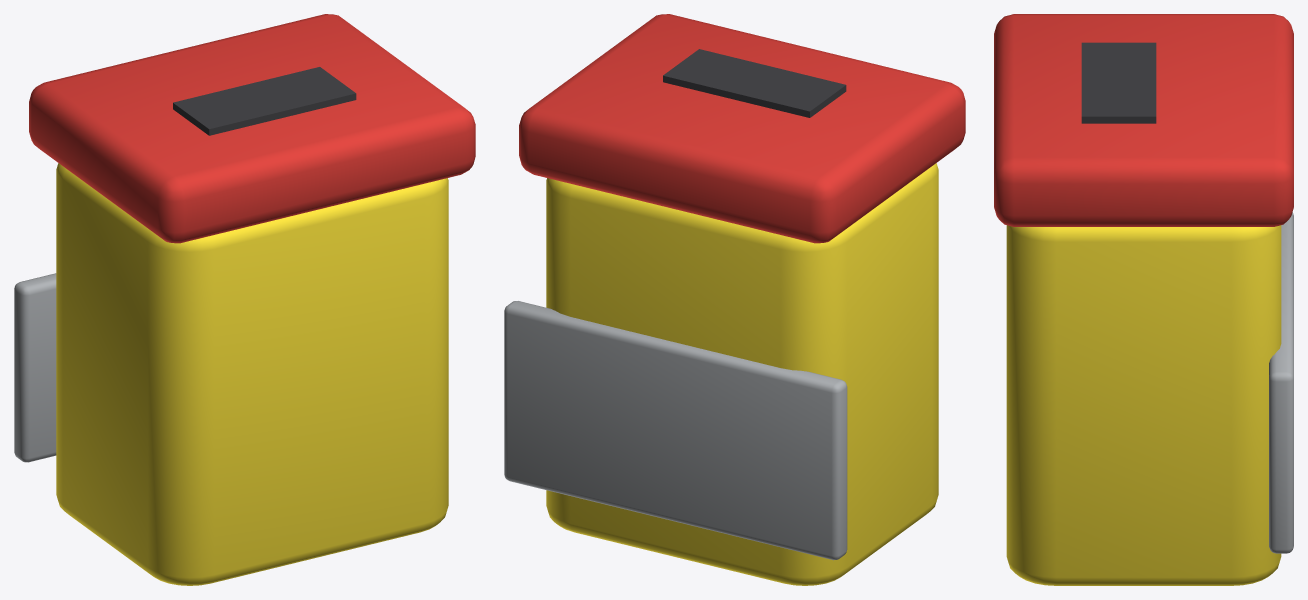
The model's file is collecteur.glb.
3 renders of one model, left to right at view 1: azimuth 30°, elevation 25°; view 2: azimuth 150°, elevation 25°; view 3: azimuth 270°, elevation 25°, orthographic. The views are drawn at different scales.
Parts seen in each view (by area): view 1: collecteur; view 2: collecteur; view 3: collecteur.
Boxes of the visible parts, x1,y1,x2,y2 form: collecteur: (14,14,475,585); collecteur: (504,14,965,585); collecteur: (994,14,1293,585).
Size of the model in its own units: 0.16 by 0.193 by 0.12.
